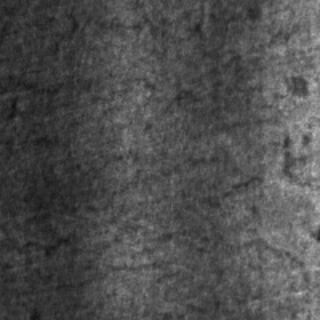crazing: (56, 43, 288, 169), (1, 165, 178, 289)
